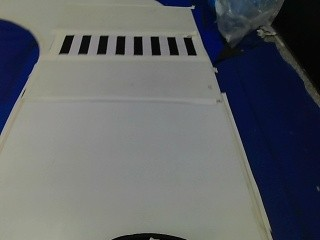crosswalk: (54, 29, 200, 60)
